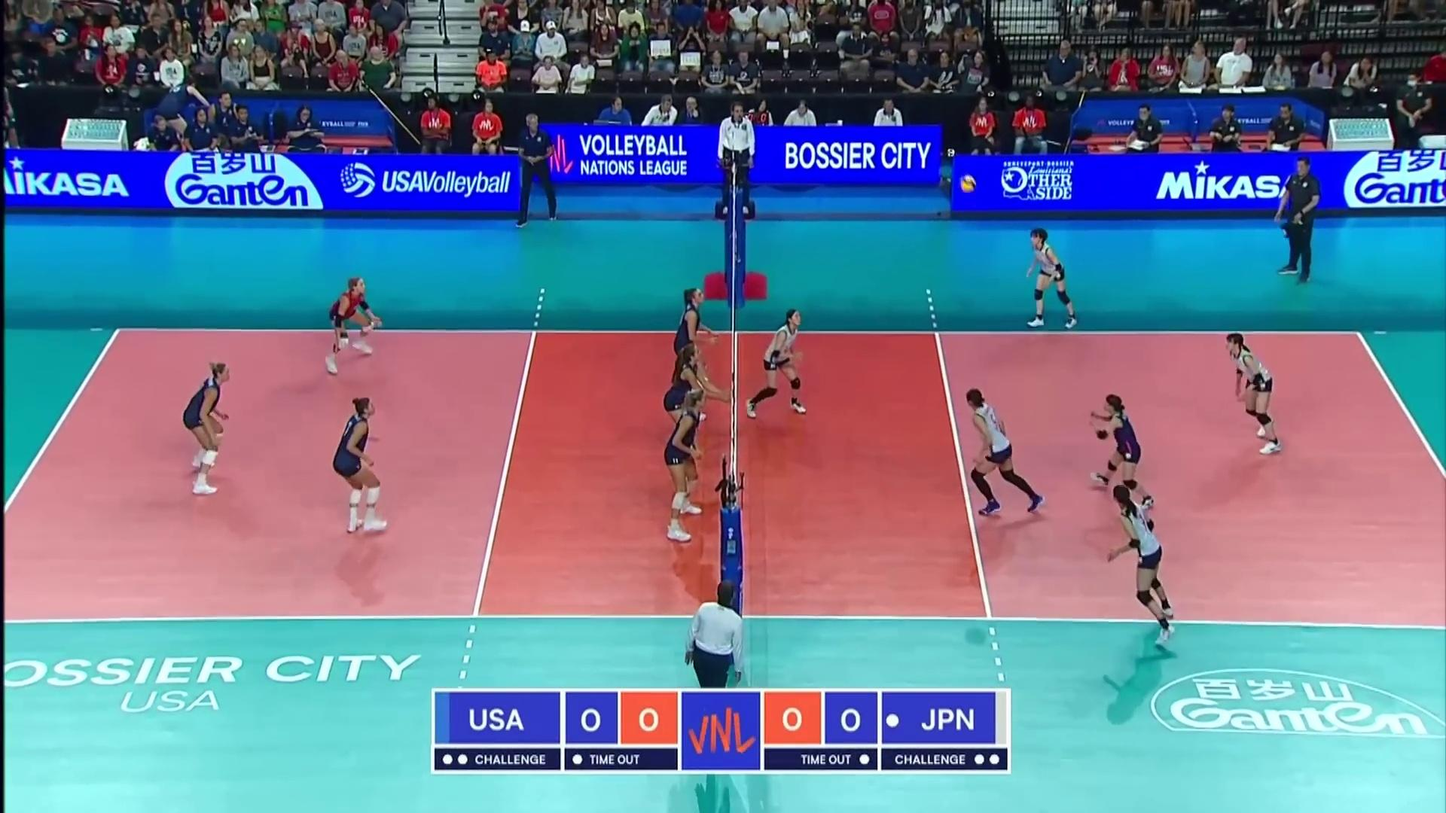player: (966, 388, 1046, 519), (1116, 481, 1177, 648), (327, 398, 390, 533), (662, 381, 711, 550), (746, 305, 815, 422), (660, 343, 721, 473), (182, 363, 241, 496), (1087, 397, 1156, 509), (1227, 334, 1289, 455), (662, 281, 714, 408), (323, 276, 381, 373), (1026, 230, 1080, 327)
refree: (684, 581, 745, 722), (714, 103, 757, 214)
